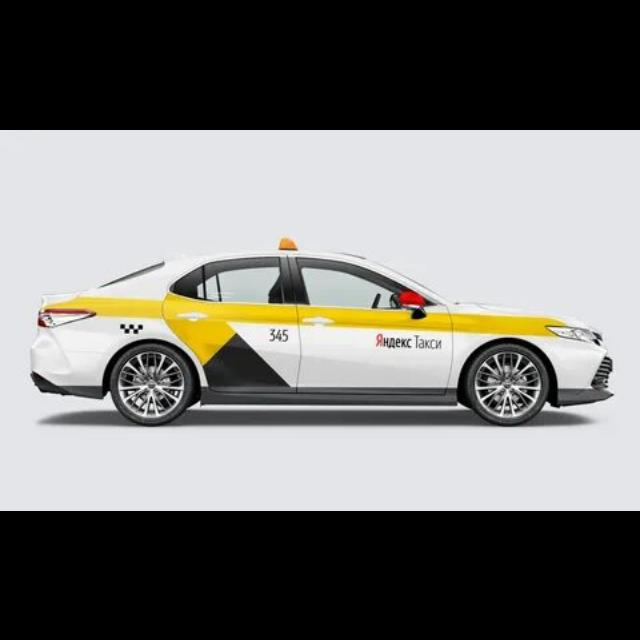taxi: (30, 235, 614, 427)
